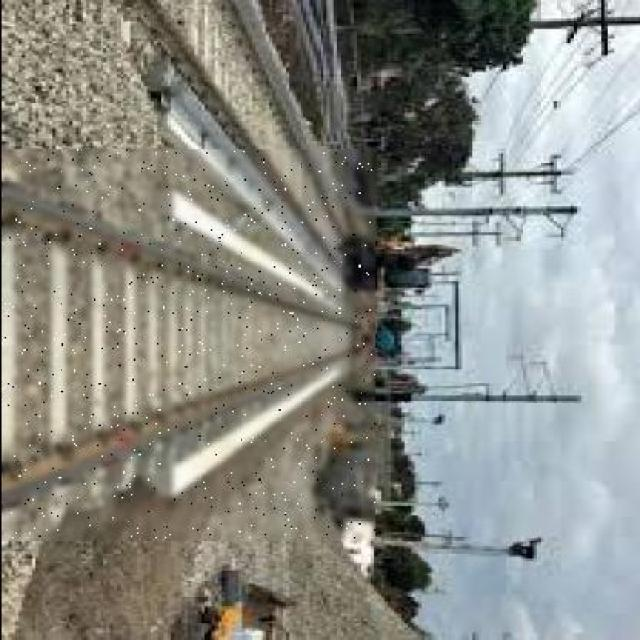rail: (4, 151, 374, 539), (106, 1, 349, 291)
